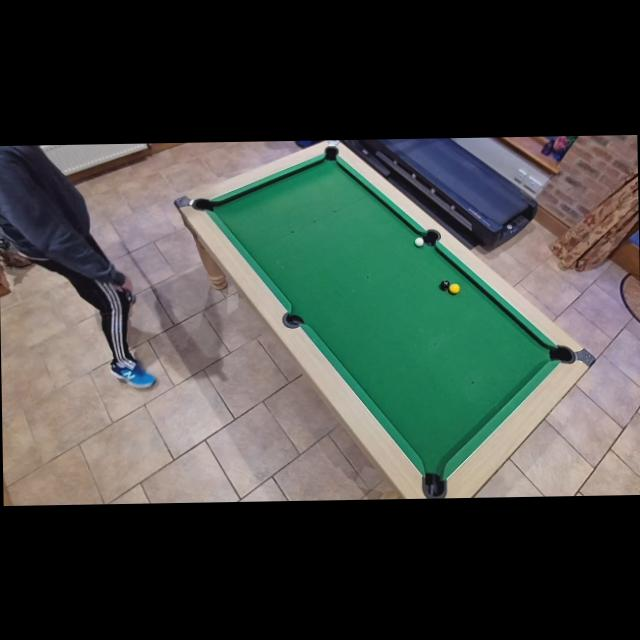Ball: (448, 284, 459, 294), (440, 280, 450, 290), (414, 237, 423, 246)
